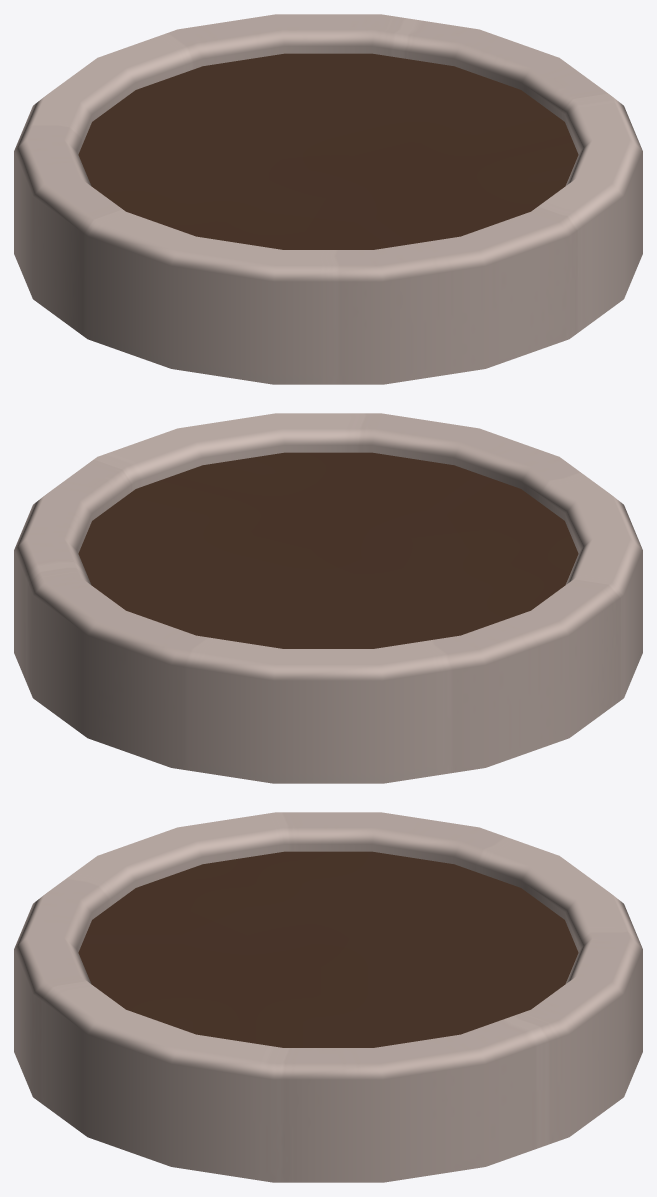
Rendered from GardenBed_Round.fbx.
3 views of the same model, one above another, from view 1: azimuth 30°, elevation 25°; view 2: azimuth 150°, elevation 25°; view 3: azimuth 270°, elevation 25° (orthographic).
Parts seen in each view (by area): view 1: GardenBed_Round_2m; view 2: GardenBed_Round_2m; view 3: GardenBed_Round_2m.
Part boxes in pixels (x1,y1,x2,y2): GardenBed_Round_2m: (14, 14, 642, 384); GardenBed_Round_2m: (14, 413, 642, 783); GardenBed_Round_2m: (14, 812, 642, 1182).
Size of the model in its own units: 197 by 40 by 200.
